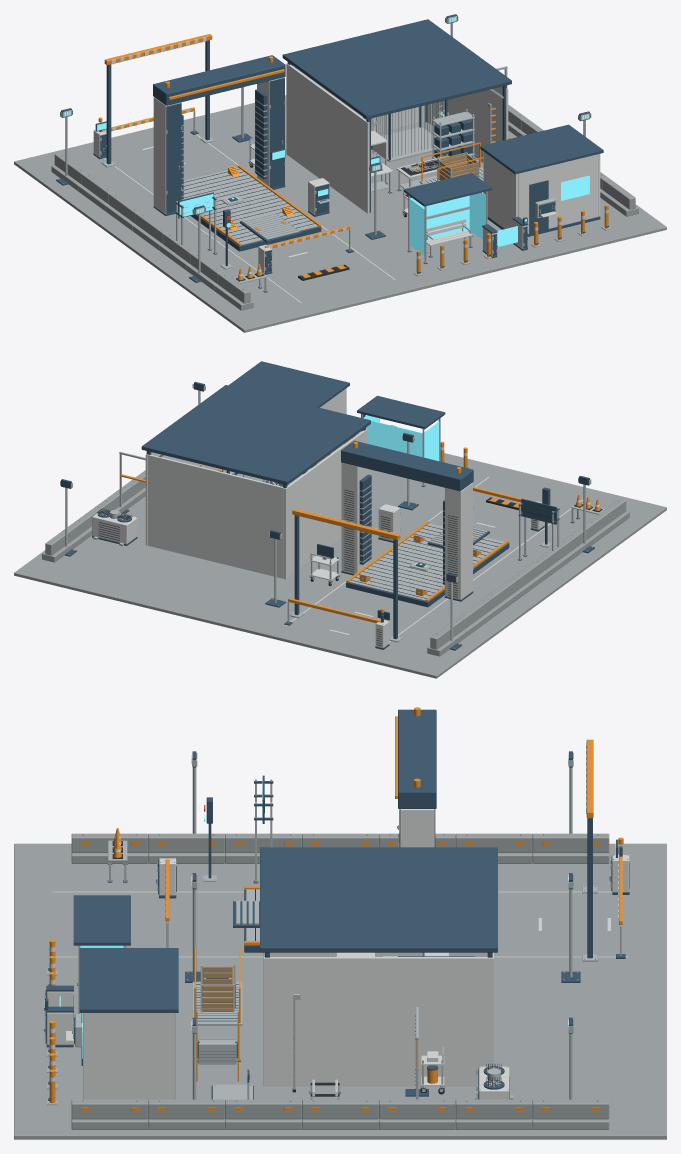
Rendered from container-freight-inspection-yard.glb.
3 views of the same model, one above another, from view 1: azimuth 30°, elevation 25°; view 2: azimuth 150°, elevation 25°; view 3: azimuth 270°, elevation 25° (orthographic). The views are drawn at different scales.
Visible parts, largest first — view 1: 000-container-inspection-and-customs-yard-covered-inspection (×3), 011-container-inspection-and-customs-yard-roofed-administrat (×3), 001-container-inspection-and-customs-yard-drive-through-scan (×3), 002-container-inspection-and-customs-yard-weighbridge/1, 012-container-inspection-and-customs-yard-waiting-shelter/3, 017-container-inspection-and-customs-yard-bonded-cage/0, 020-container-inspection-and-customs-yard-freight-sample-she (×2), 012-container-inspection-and-customs-yard-waiting-shelter/1, 002-container-inspection-and-customs-yard-weighbridge/2, 003-container-inspection-and-customs-yard-height-gauge/0, 044-container-inspection-and-customs-yard-inspection-pit-cov, 064-container-inspection-and-customs-yard-concrete-lane-divi (+13 smaller); view 2: 000-container-inspection-and-customs-yard-covered-inspection (×3), 001-container-inspection-and-customs-yard-drive-through-scan (×3), 002-container-inspection-and-customs-yard-weighbridge/1, 011-container-inspection-and-customs-yard-roofed-administrat, 012-container-inspection-and-customs-yard-waiting-shelter/3, 012-container-inspection-and-customs-yard-waiting-shelter/1, 002-container-inspection-and-customs-yard-weighbridge/2, 003-container-inspection-and-customs-yard-height-gauge/0, 041-container-inspection-and-customs-yard-ventilation-skid/1, 053-container-inspection-and-customs-yard-concrete-lane-divi, 002-container-inspection-and-customs-yard-weighbridge/0, 052-container-inspection-and-customs-yard-concrete-lane-divi (+11 smaller); view 3: 000-container-inspection-and-customs-yard-covered-inspection (×3), 011-container-inspection-and-customs-yard-roofed-administrat (×2), 001-container-inspection-and-customs-yard-drive-through-scan (×2), 012-container-inspection-and-customs-yard-waiting-shelter/1, 055-container-inspection-and-customs-yard-concrete-lane-divi, 063-container-inspection-and-customs-yard-concrete-lane-divi, 053-container-inspection-and-customs-yard-concrete-lane-divi, 065-container-inspection-and-customs-yard-concrete-lane-divi, 057-container-inspection-and-customs-yard-concrete-lane-divi, 059-container-inspection-and-customs-yard-concrete-lane-divi, 061-container-inspection-and-customs-yard-concrete-lane-divi, 062-container-inspection-and-customs-yard-concrete-lane-divi (+13 smaller).
Boxes of the visible parts, x1,y1,x2,y2 form: 000-container-inspection-and-customs-yard-covered-inspection (×3): (14, 19, 666, 332); 011-container-inspection-and-customs-yard-roofed-administrat (×3): (480, 124, 603, 236); 001-container-inspection-and-customs-yard-drive-through-scan (×3): (153, 55, 285, 215); 002-container-inspection-and-customs-yard-weighbridge/1: (181, 167, 318, 244); 012-container-inspection-and-customs-yard-waiting-shelter/3: (410, 192, 485, 255); 017-container-inspection-and-customs-yard-bonded-cage/0: (365, 100, 444, 162); 020-container-inspection-and-customs-yard-freight-sample-she (×2): (432, 109, 475, 158); 012-container-inspection-and-customs-yard-waiting-shelter/1: (404, 173, 491, 264); 002-container-inspection-and-customs-yard-weighbridge/2: (184, 168, 314, 242); 003-container-inspection-and-customs-yard-height-gauge/0: (106, 40, 209, 164); 044-container-inspection-and-customs-yard-inspection-pit-cov: (241, 212, 299, 239); 064-container-inspection-and-customs-yard-concrete-lane-divi: (214, 272, 253, 310); 000-container-inspection-and-customs-yard-covered-inspection (×3): (14, 385, 666, 678); 001-container-inspection-and-customs-yard-drive-through-scan (×3): (341, 440, 473, 601); 002-container-inspection-and-customs-yard-weighbridge/1: (349, 523, 504, 600); 011-container-inspection-and-customs-yard-roofed-administrat: (228, 361, 349, 473); 012-container-inspection-and-customs-yard-waiting-shelter/3: (363, 415, 439, 461); 012-container-inspection-and-customs-yard-waiting-shelter/1: (357, 395, 445, 486); 002-container-inspection-and-customs-yard-weighbridge/2: (351, 525, 501, 598); 003-container-inspection-and-customs-yard-height-gauge/0: (294, 515, 397, 639); 041-container-inspection-and-customs-yard-ventilation-skid/1: (92, 509, 137, 544); 053-container-inspection-and-customs-yard-concrete-lane-divi: (42, 524, 81, 562); 002-container-inspection-and-customs-yard-weighbridge/0: (346, 543, 509, 607); 052-container-inspection-and-customs-yard-concrete-lane-divi: (427, 618, 466, 656); 000-container-inspection-and-customs-yard-covered-inspection (×3): (14, 843, 666, 1139); 011-container-inspection-and-customs-yard-roofed-administrat (×2): (79, 948, 178, 1100); 001-container-inspection-and-customs-yard-drive-through-scan (×2): (397, 709, 436, 847); 012-container-inspection-and-customs-yard-waiting-shelter/1: (73, 895, 130, 985); 055-container-inspection-and-customs-yard-concrete-lane-divi: (455, 1099, 532, 1129); 063-container-inspection-and-customs-yard-concrete-lane-divi: (148, 1099, 225, 1129); 053-container-inspection-and-customs-yard-concrete-lane-divi: (532, 1099, 609, 1129); 065-container-inspection-and-customs-yard-concrete-lane-divi: (71, 1099, 148, 1129); 057-container-inspection-and-customs-yard-concrete-lane-divi: (379, 1099, 455, 1129); 059-container-inspection-and-customs-yard-concrete-lane-divi: (302, 1099, 378, 1129); 061-container-inspection-and-customs-yard-concrete-lane-divi: (225, 1099, 301, 1129); 062-container-inspection-and-customs-yard-concrete-lane-divi: (148, 833, 225, 863).
Bounding box in the file's own units: 18 × 5.3 × 17.
